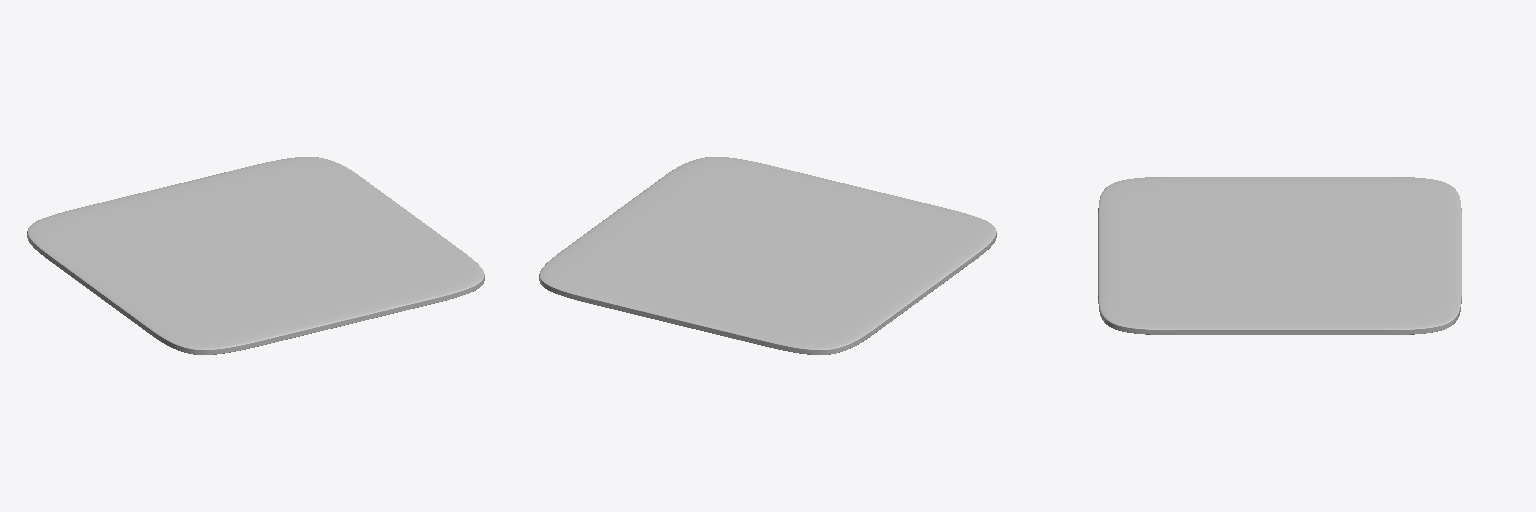
File: smoothplatform.obj
3 views of the same model, side by side, from view 1: azimuth 30°, elevation 25°; view 2: azimuth 150°, elevation 25°; view 3: azimuth 270°, elevation 25° (orthographic).
Parts seen in each view (by area): view 1: Cube; view 2: Cube; view 3: Cube.
Part boxes in pixels (x1,y1,x2,y2): Cube: (27,157,484,354); Cube: (539,157,996,354); Cube: (1098,177,1461,334).
Size of the model in its own units: 2 by 0.0517 by 2.